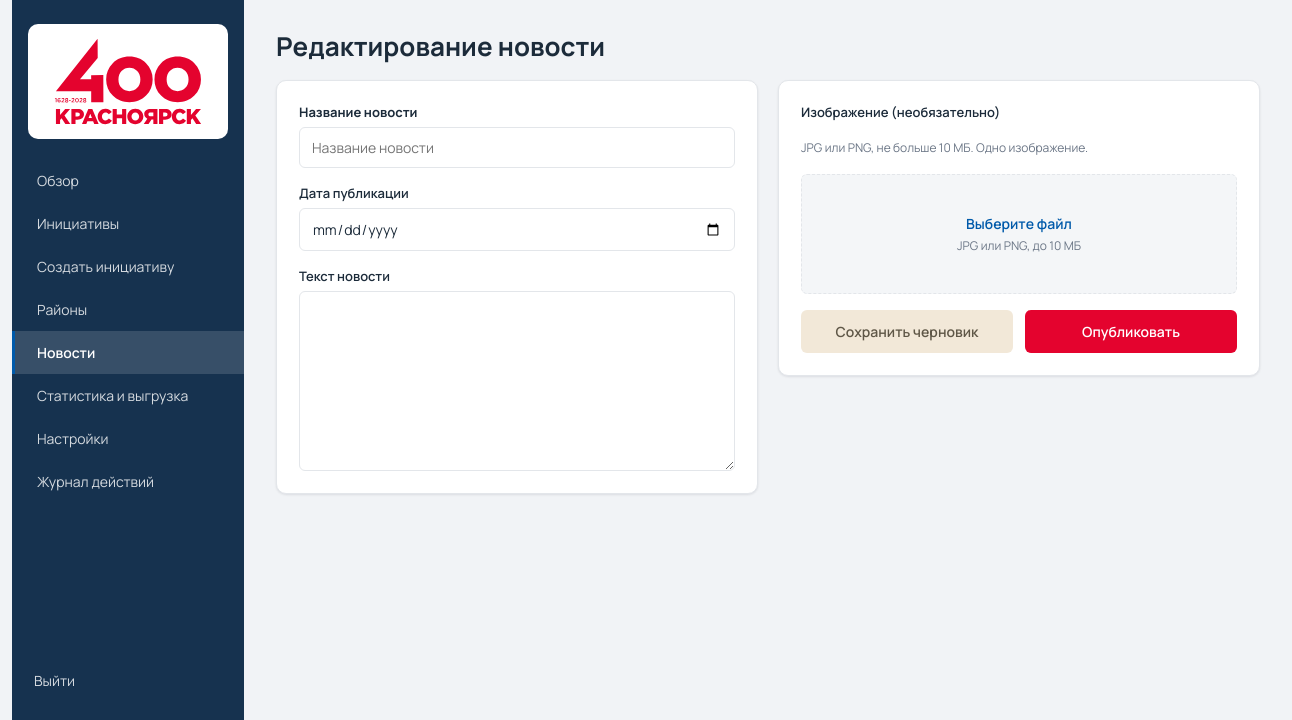
Test: admin news › shows validation when publishing without a date
Step 1. Type "Новость" into the field labelled "Название новости" → (517, 148), box [299,127,735,168]
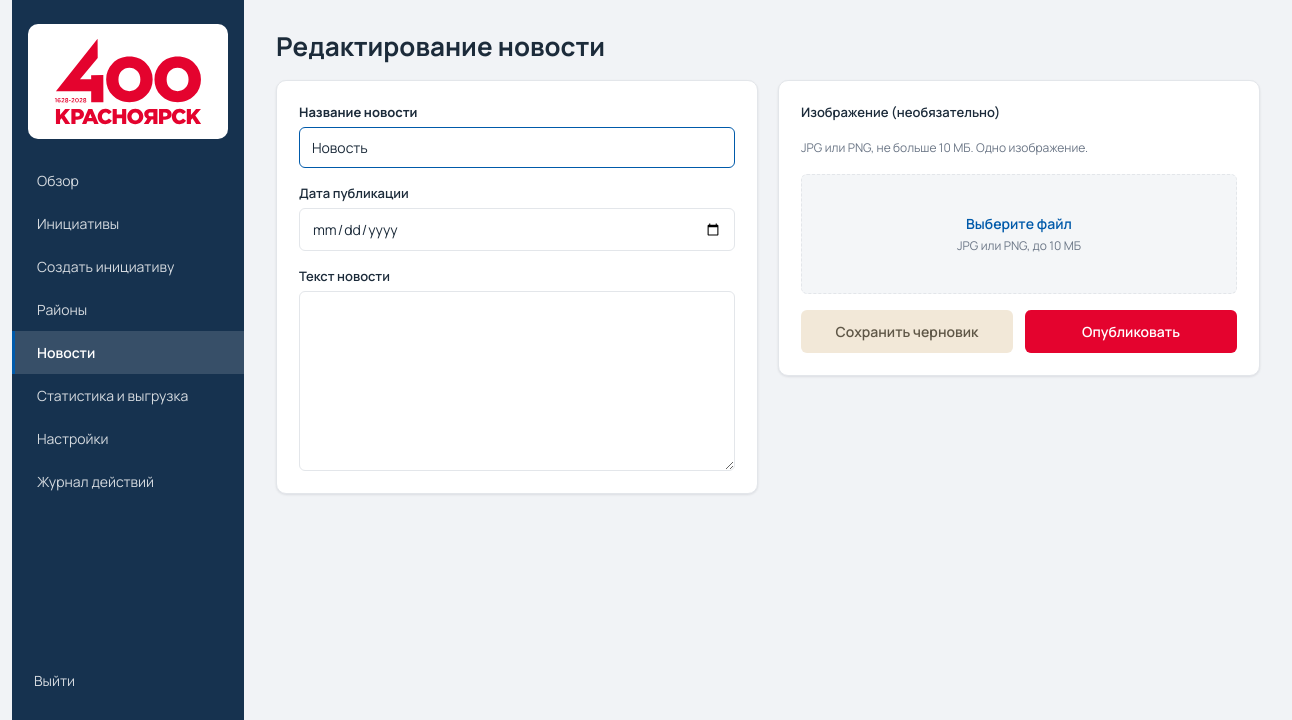
Step 2. Type "Текст" into the text box labelled "Текст новости" → (517, 381), box [299,291,735,471]
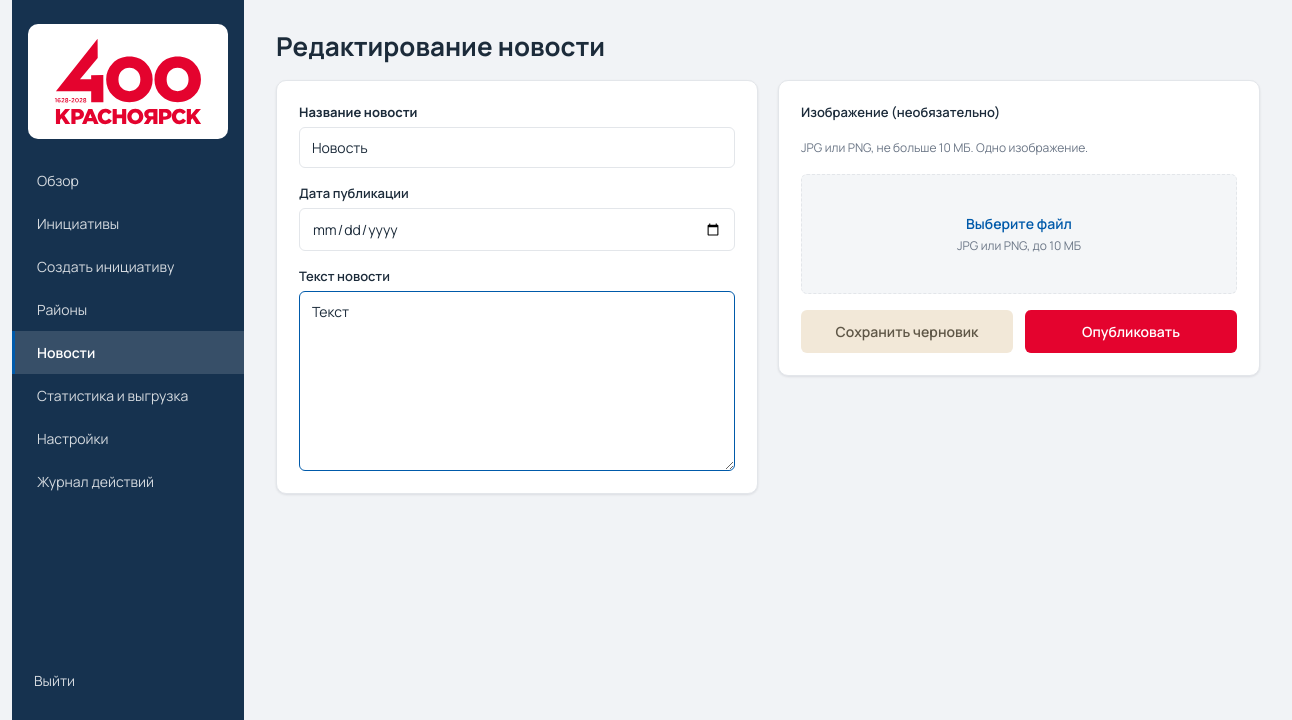
Step 3. Click the button "Опубликовать" → (1131, 332), box [1025,310,1237,353]
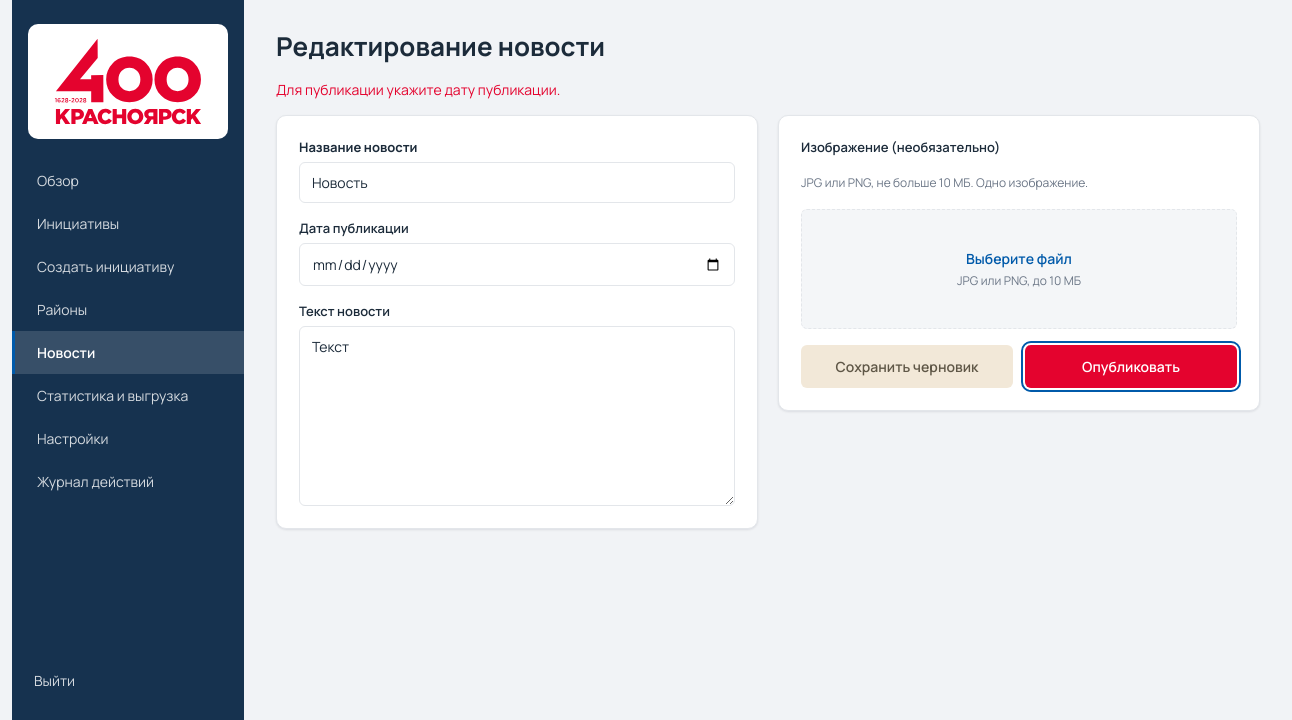
Result: the message reads "Для публикации укажите дату публикации." at [276,80,560,99]
